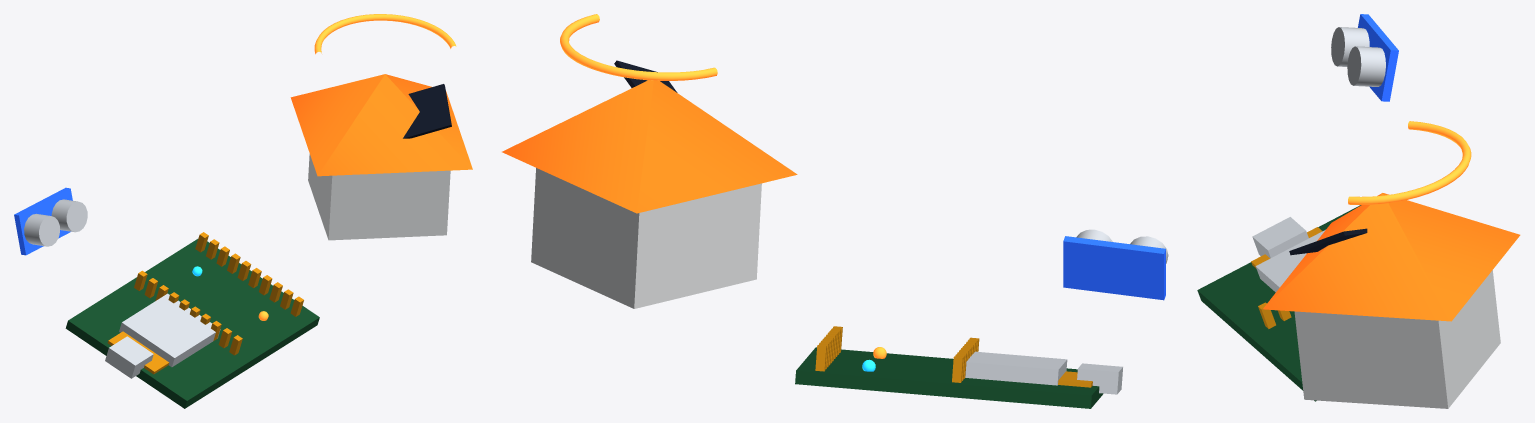
Rendered from iot-club.glb.
3 views of the same model, side by side, from view 1: azimuth 30°, elevation 25°; view 2: azimuth 150°, elevation 25°; view 3: azimuth 270°, elevation 25° (orthographic). The views are drawn at different scales.
Visible parts, largest first — view 1: smart_home, iot_board, ultrasonic_sensor; view 2: smart_home, iot_board, ultrasonic_sensor; view 3: smart_home, iot_board, ultrasonic_sensor.
Boxes of the visible parts, <box> form: smart_home: <box>290,14,472,240</box>; iot_board: <box>65,232,319,408</box>; ultrasonic_sensor: <box>14,187,87,255</box>; smart_home: <box>502,14,797,308</box>; iot_board: <box>795,326,1122,408</box>; ultrasonic_sensor: <box>1063,229,1168,300</box>; smart_home: <box>1263,121,1520,408</box>; iot_board: <box>1197,205,1361,401</box>; ultrasonic_sensor: <box>1331,14,1398,101</box>.
Bounding box in the file's own units: 3.12 × 1.6 × 1.47.
